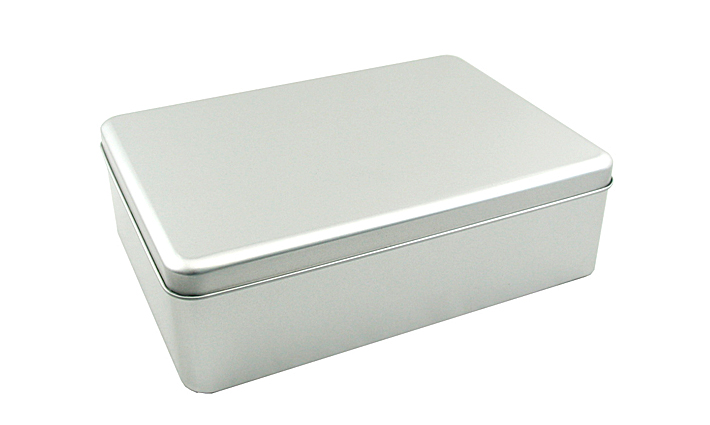metal: (98, 53, 614, 395)
